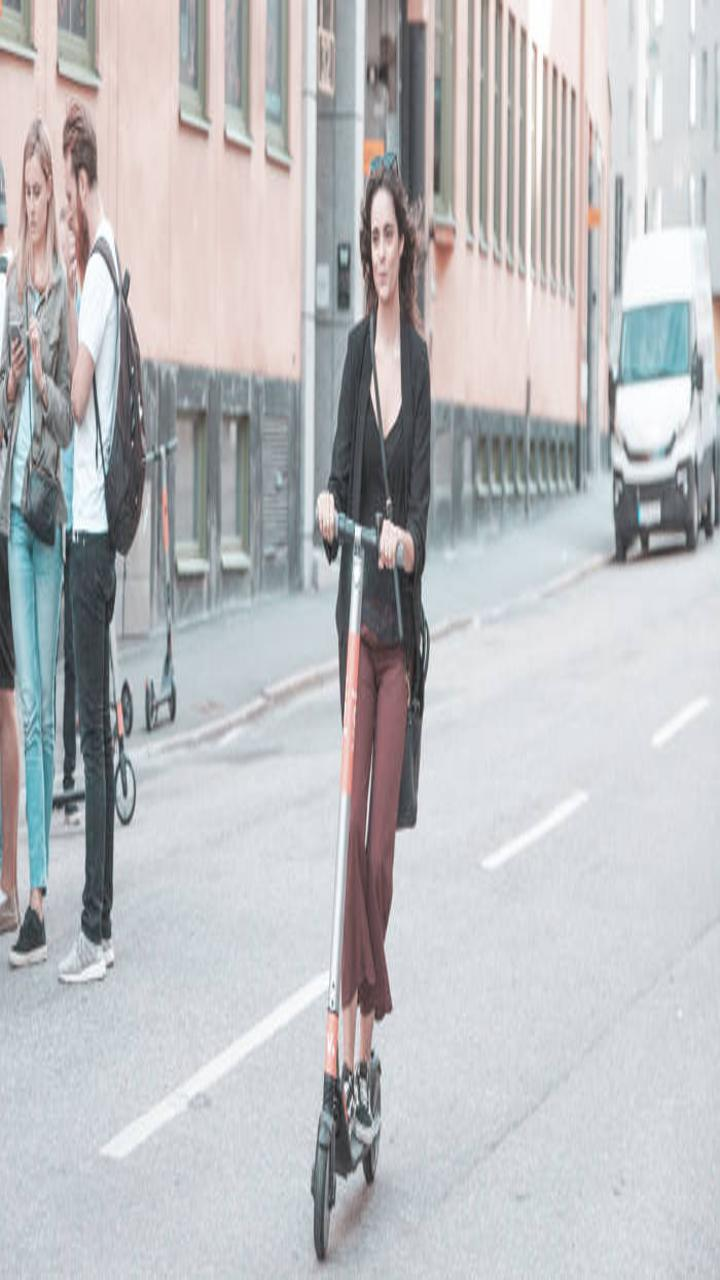pedestrian: (340, 145, 443, 1080), (58, 98, 161, 1033), (1, 92, 75, 992)
scooter: (308, 504, 415, 1264)
vehicle: (602, 196, 720, 548)
